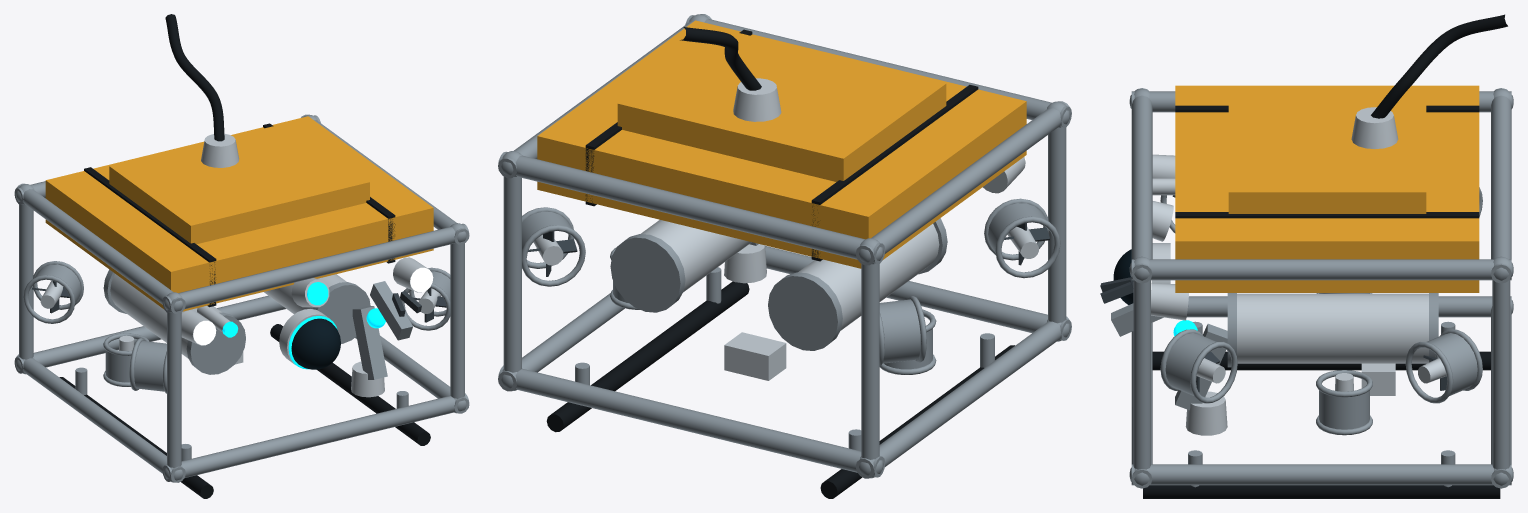
Rendered from rov.glb.
The picture shows the model from 3 angles, left to right: view 1: azimuth 30°, elevation 25°; view 2: azimuth 150°, elevation 25°; view 3: azimuth 270°, elevation 25°; orthographic projection. The views are drawn at different scales.
Parts seen in each view (by area): view 1: foam_core, foam_crown, rail_cross_tf, rail_cross_bf, rail_long_lt, rail_long_lb, rail_cross_ba, post_rf, post_lf, post_la, camera_dome, housing_port (+22 smaller); view 2: foam_core, foam_crown, rail_cross_ta, rail_cross_ba, rail_long_lt, rail_long_lb, flange_stbd_a, flange_port_a, housing_port, rail_cross_bf, skid_stbd, post_la (+21 smaller); view 3: foam_core, foam_crown, housing_stbd, rail_long_rt, rail_long_rb, skid_stbd, rail_cross_tf, rail_cross_ta, post_ra, post_rf, tether_umbilical, rail_long_lb (+27 smaller).
Boxes of the visible parts, bbox=[...] form: foam_core: bbox=[45, 116, 433, 311]; foam_crown: bbox=[109, 122, 369, 244]; rail_cross_tf: bbox=[162, 223, 469, 312]; rail_cross_bf: bbox=[162, 393, 469, 481]; rail_long_lt: bbox=[16, 183, 185, 313]; rail_long_lb: bbox=[16, 354, 185, 482]; rail_cross_ba: bbox=[14, 295, 285, 373]; post_rf: bbox=[450, 243, 464, 398]; post_lf: bbox=[167, 312, 181, 467]; post_la: bbox=[19, 204, 33, 359]; camera_dome: bbox=[291, 318, 340, 369]; housing_port: bbox=[110, 274, 221, 358]; foam_core: bbox=[537, 20, 1026, 268]; foam_crown: bbox=[617, 28, 946, 181]; rail_cross_ta: bbox=[498, 151, 885, 264]; rail_cross_ba: bbox=[498, 365, 885, 477]; rail_long_lt: bbox=[855, 101, 1069, 265]; rail_long_lb: bbox=[855, 316, 1069, 478]; flange_stbd_a: bbox=[610, 234, 685, 312]; flange_port_a: bbox=[768, 272, 842, 350]; housing_port: bbox=[798, 224, 939, 330]; rail_cross_bf: bbox=[765, 246, 1071, 340]; skid_stbd: bbox=[546, 281, 749, 432]; post_la: bbox=[861, 264, 879, 459]; foam_core: bbox=[1175, 85, 1479, 292]; foam_crown: bbox=[1228, 86, 1426, 213]; housing_stbd: bbox=[1237, 293, 1428, 363]; rail_long_rt: bbox=[1131, 259, 1511, 280]; rail_long_rb: bbox=[1131, 464, 1511, 485]; skid_stbd: bbox=[1143, 485, 1500, 498]; rail_cross_tf: bbox=[1131, 88, 1152, 283]; rail_cross_ta: bbox=[1491, 88, 1511, 283]; post_ra: bbox=[1492, 280, 1510, 469]; post_rf: bbox=[1133, 280, 1150, 469]; tether_umbilical: bbox=[1371, 14, 1507, 118]; rail_long_lb: bbox=[1186, 296, 1511, 317].
Bounding box in the file's own units: 2.44 × 2.45 × 2.18.
